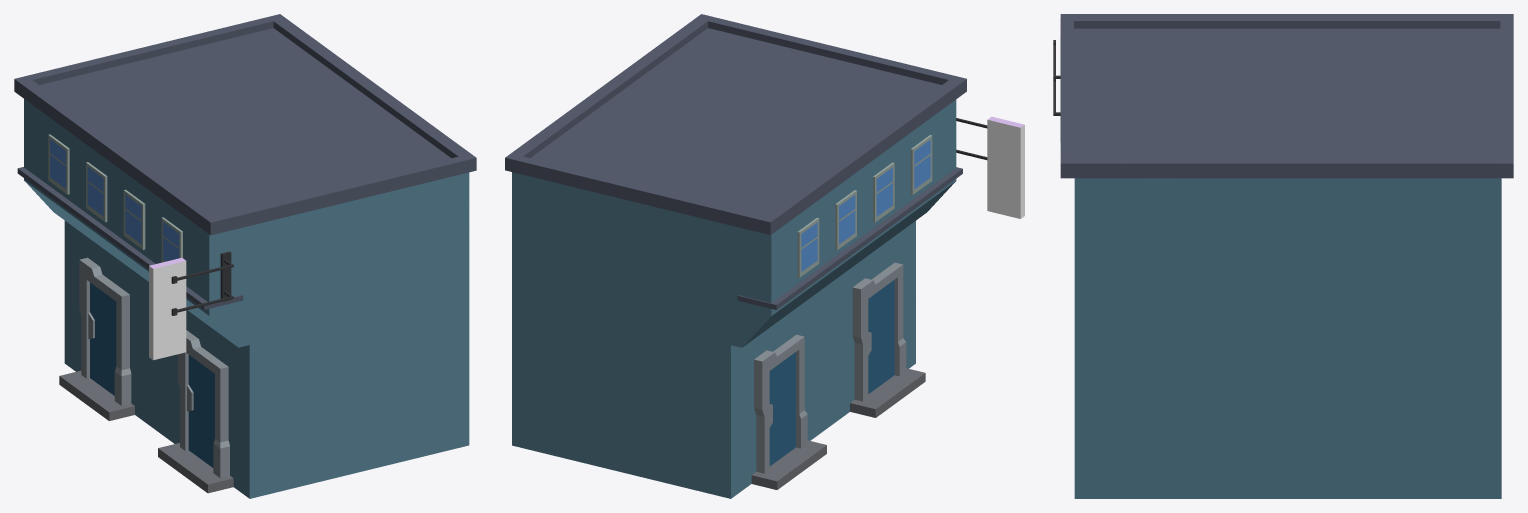
File: SouthEast_House_03.fbx
3 renders of one model, left to right at view 1: azimuth 30°, elevation 25°; view 2: azimuth 150°, elevation 25°; view 3: azimuth 270°, elevation 25°, orthographic. The views are drawn at different scales.
Parts seen in each view (by area): view 1: SouthEast_House_03; view 2: SouthEast_House_03; view 3: SouthEast_House_03.
Part boxes in pixels (x1,y1,x2,y2): SouthEast_House_03: (14, 14, 476, 498); SouthEast_House_03: (505, 14, 1024, 498); SouthEast_House_03: (1053, 14, 1513, 498).
Bounding box in the file's own units: 20.01 × 17.31 × 21.39.
2 materials, 2 textured.
